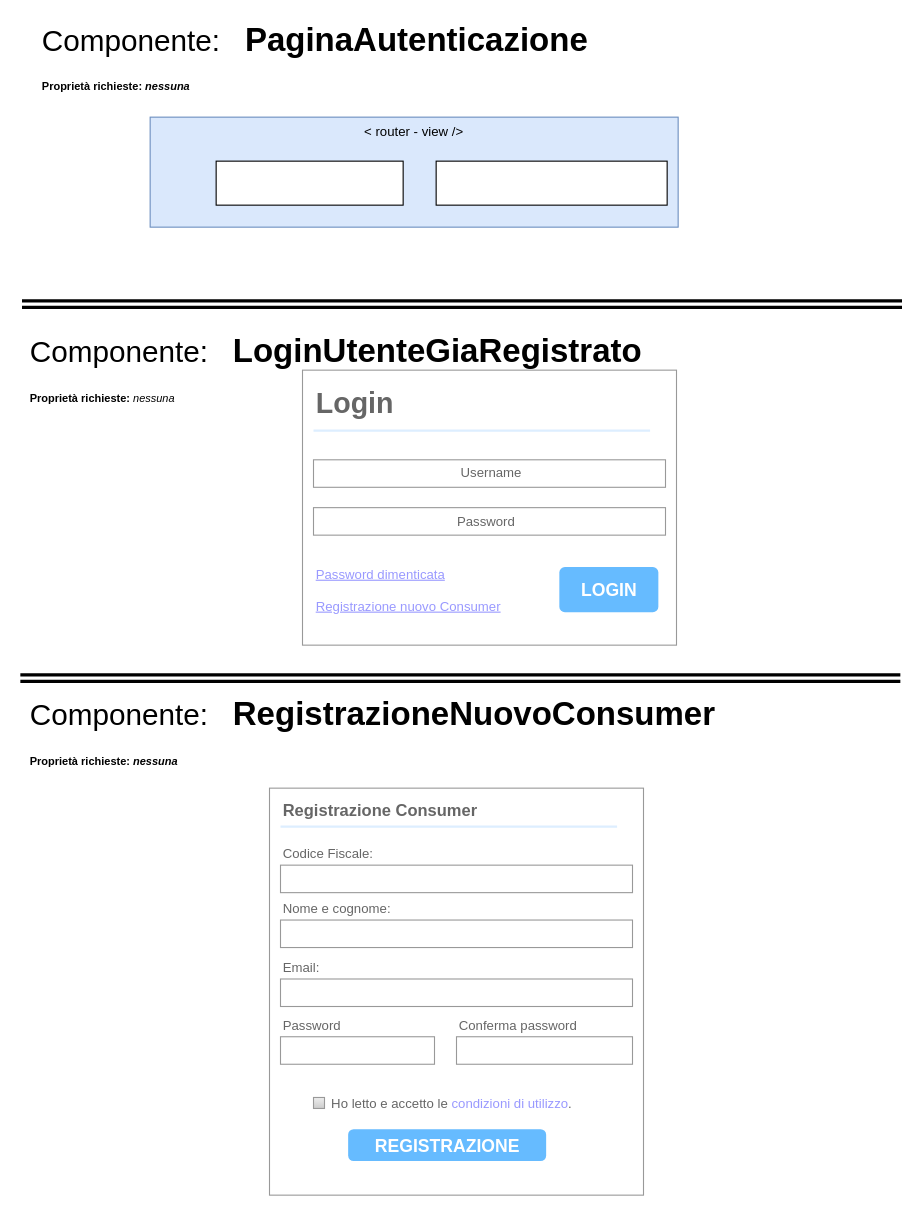
Some shapes in this 923 by 1214 pixel diagram are drawn without their labels. Each missing label, with the centre of its shape:
"LoginUtenteGiaRegistrato" belongs at point (309, 182).
"RegistrazioneNuovoConsumer" belongs at point (551, 182).
